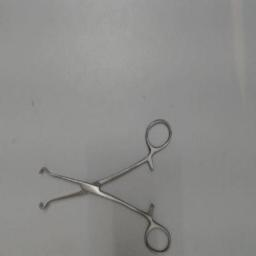Babcock Tissue Forceps: (32, 110, 174, 256)
